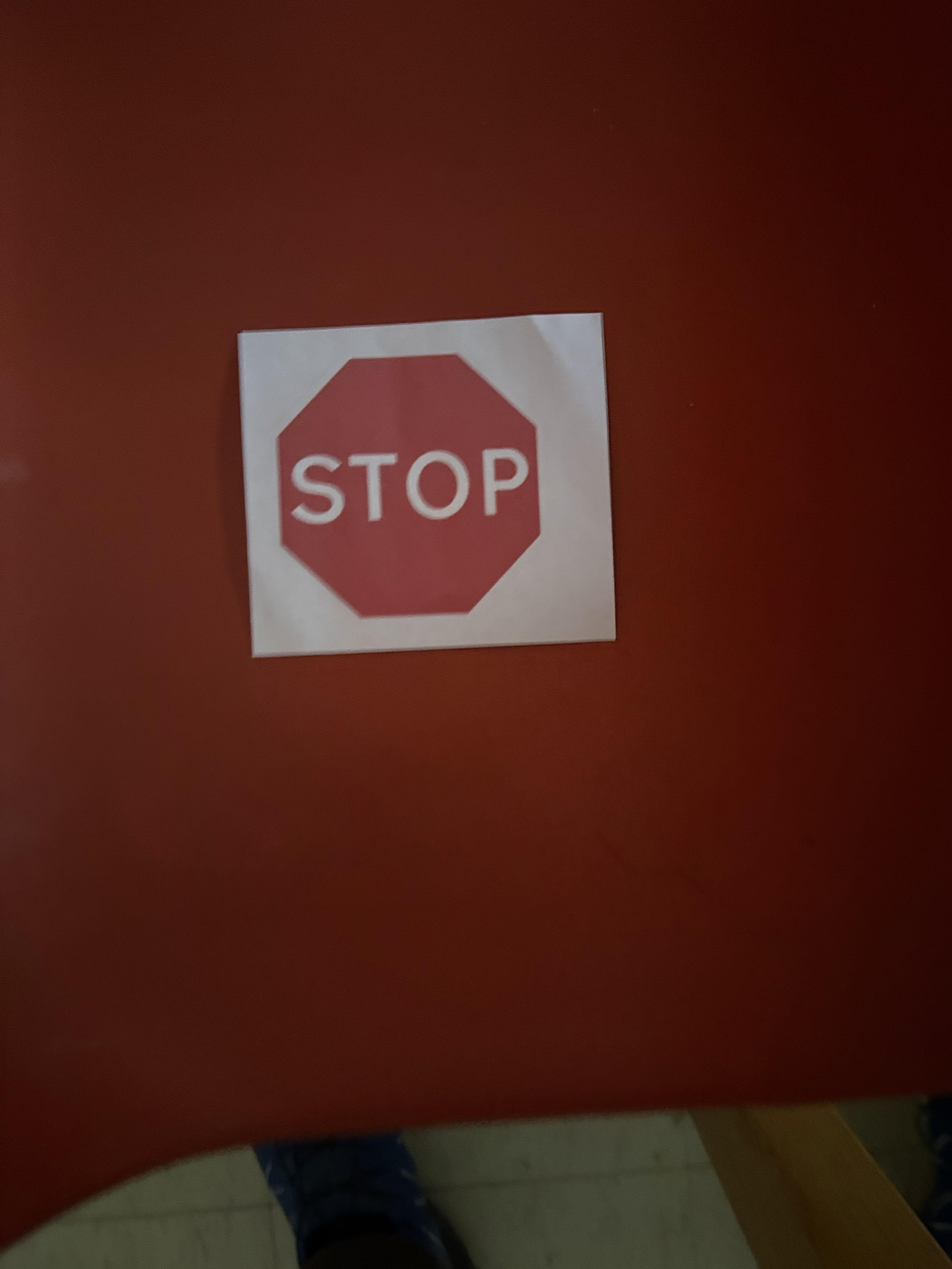Stop: (242, 315, 624, 663)
